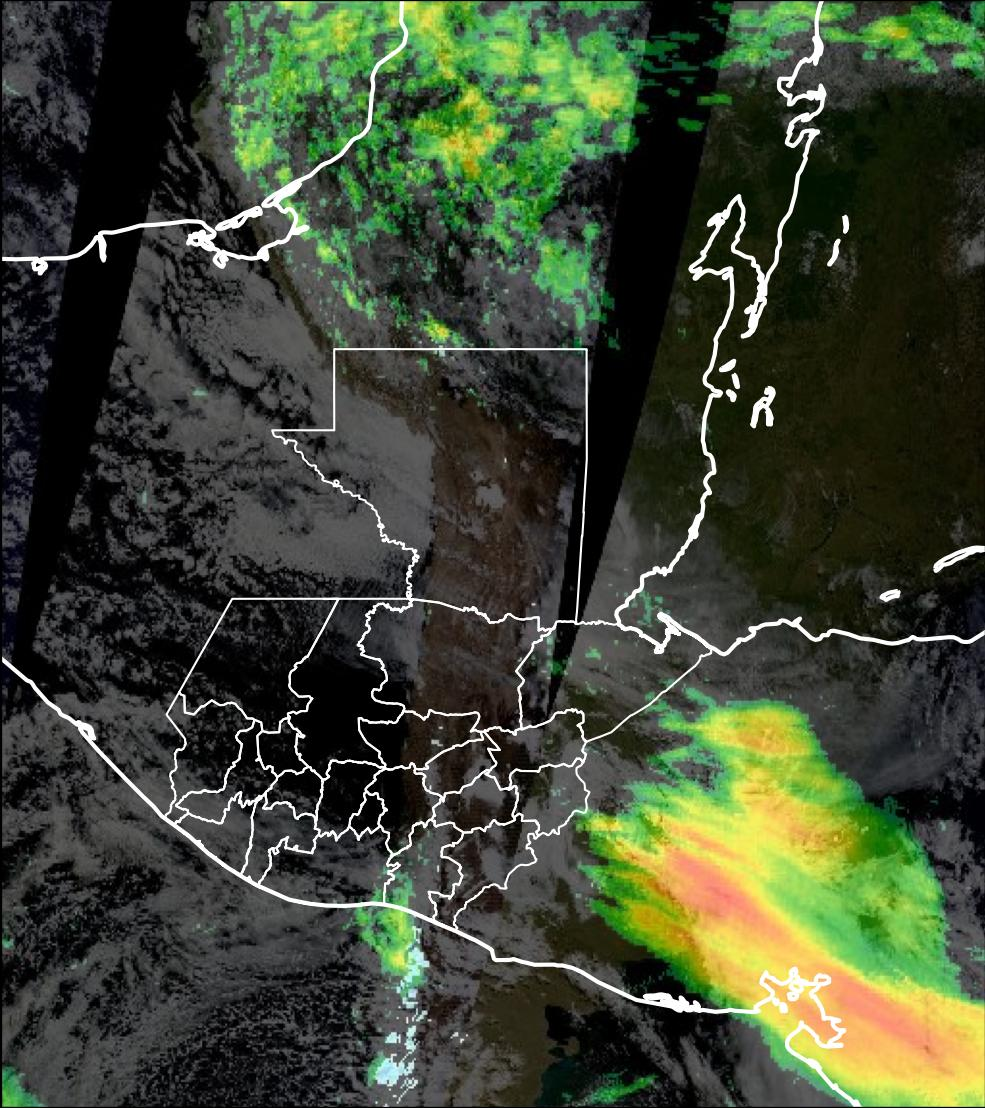precipitacion: (621, 823, 797, 979)
